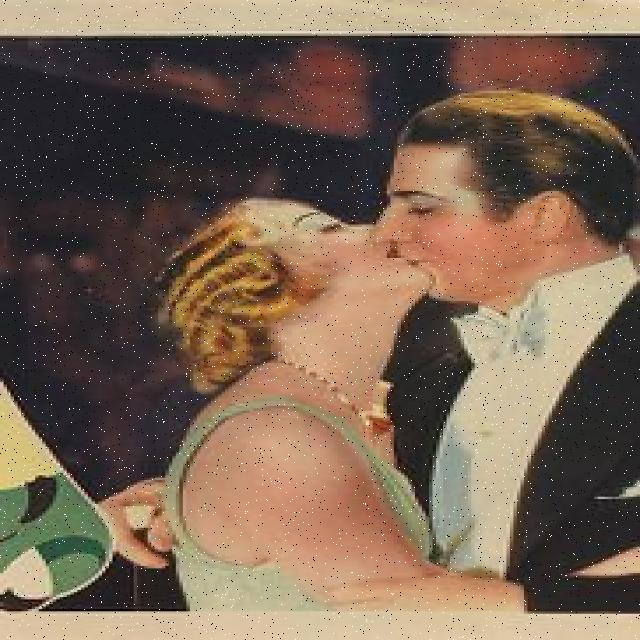picture: (3, 38, 640, 611)
